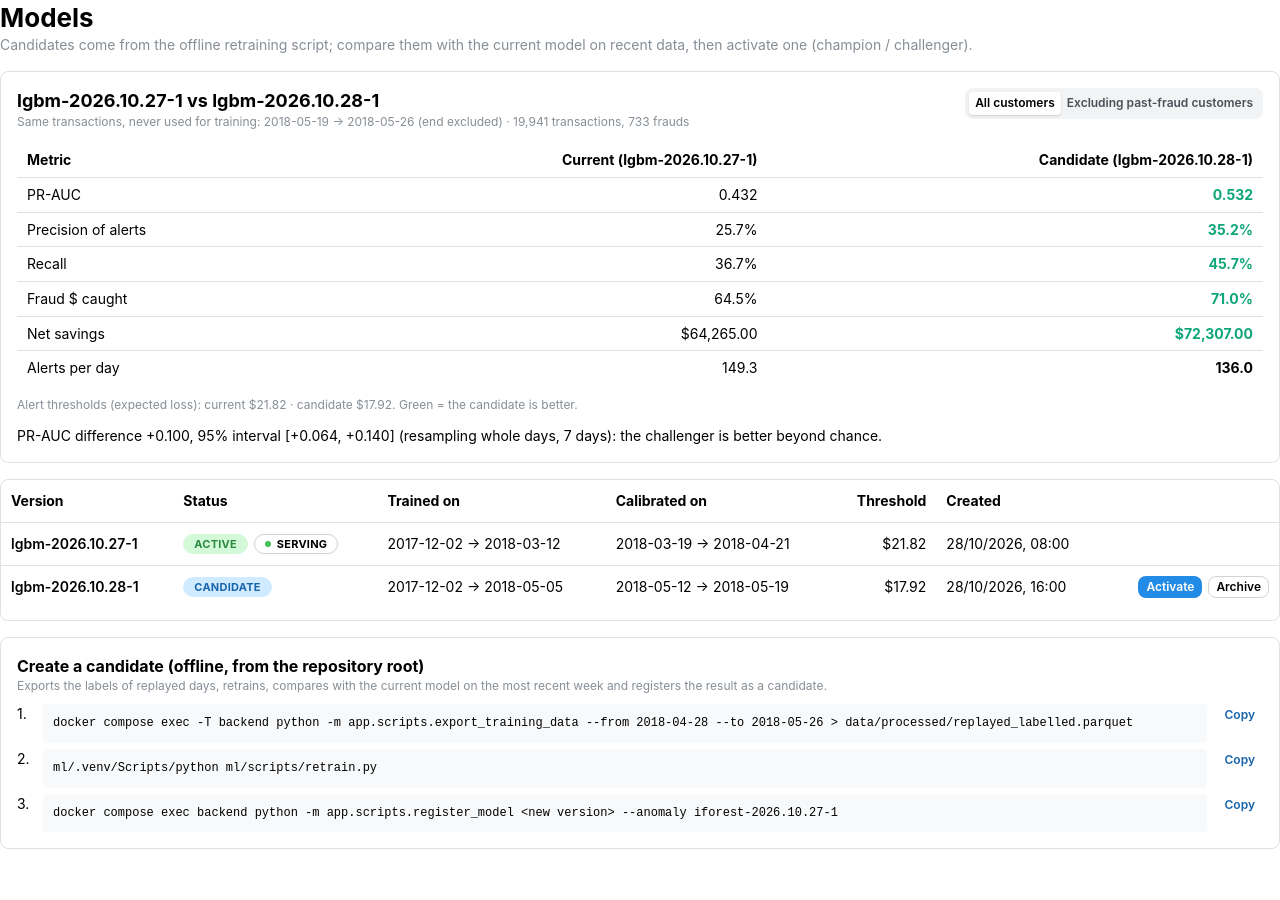
ModelsPage › activates only after confirming, and explains the consequences
Click the button "Activate" at (1170, 587), box [1138, 576, 1202, 598]
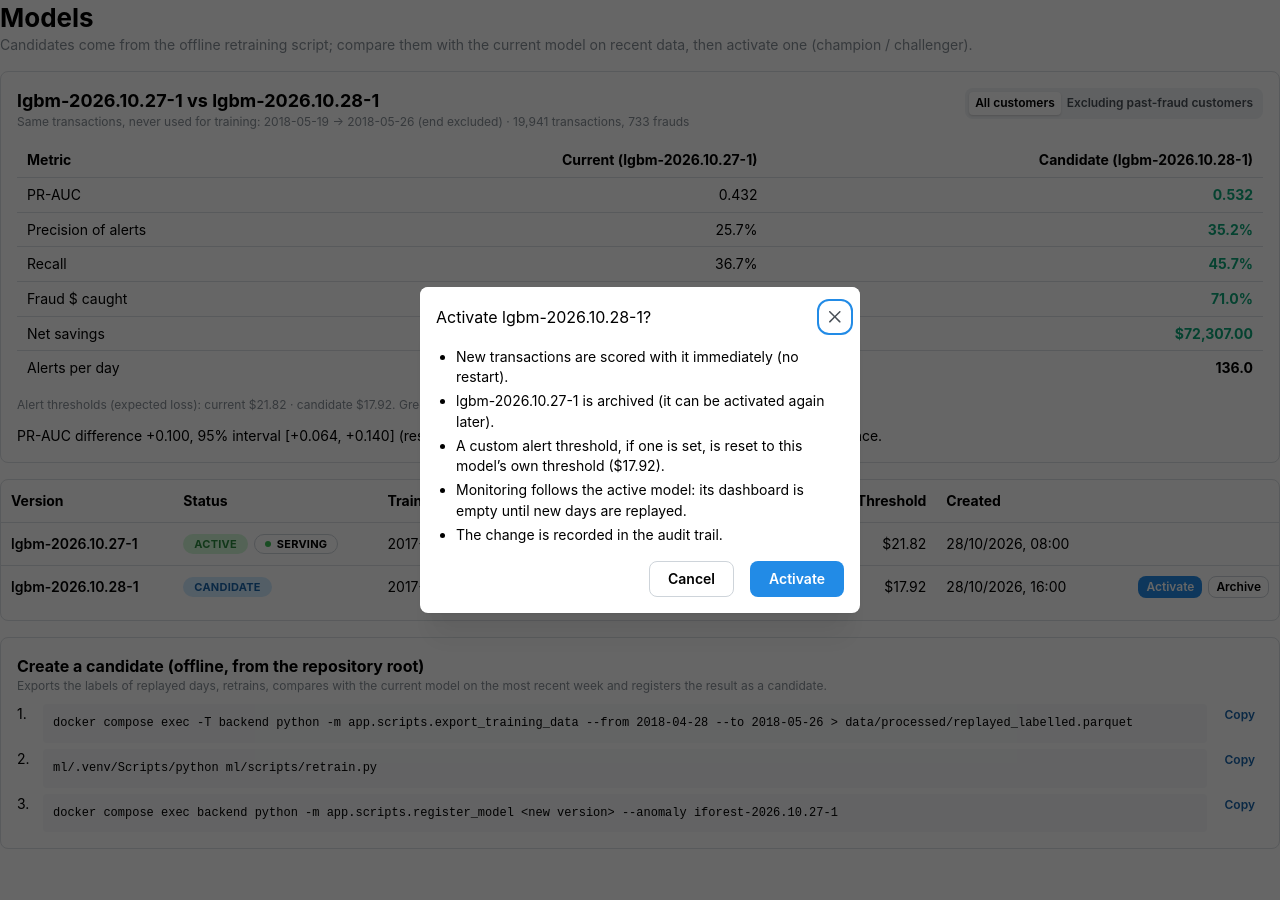
Expected: the heading "Activate lgbm-2026.10.28-1?" is shown, [436, 309, 651, 325]
Expected: the text "lgbm-2026.10.27-1 is archived" is shown, [456, 391, 844, 432]
Expected: the text "reset to this model’s own threshold ($17.92)" is shown, [456, 436, 844, 476]
Click the button "Activate" at (797, 579), box [750, 561, 844, 597]
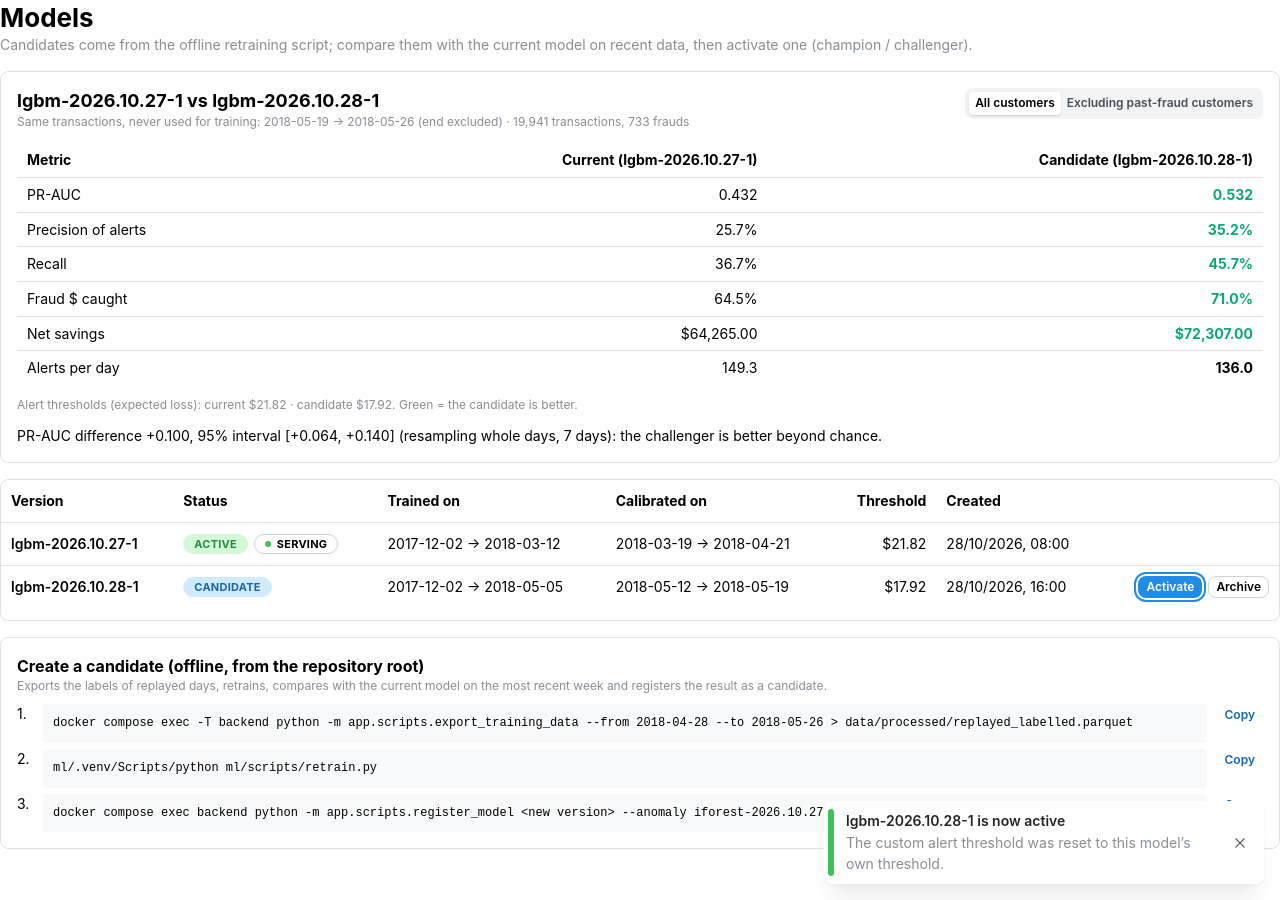
Expected: the text "lgbm-2026.10.28-1 is now active" is shown, [846, 812, 1065, 829]
Expected: the text "custom alert threshold was reset" is shown, [846, 834, 1191, 872]
